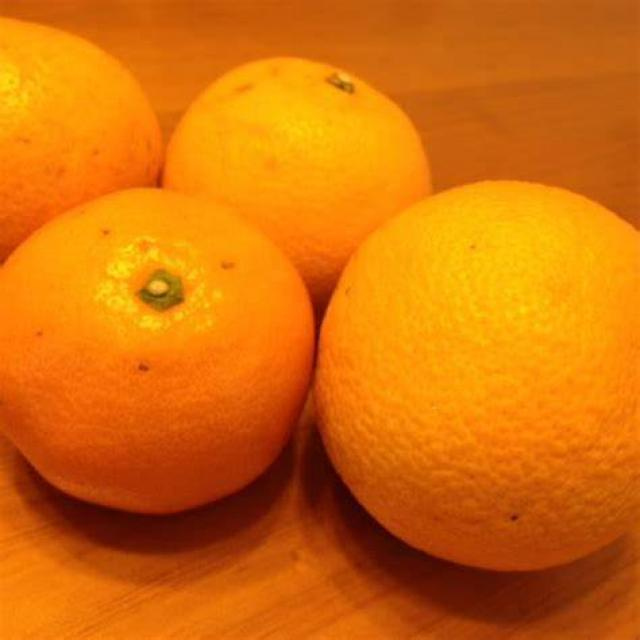Orange: (312, 178, 640, 574), (0, 189, 315, 515), (167, 54, 434, 294), (1, 14, 164, 266)
